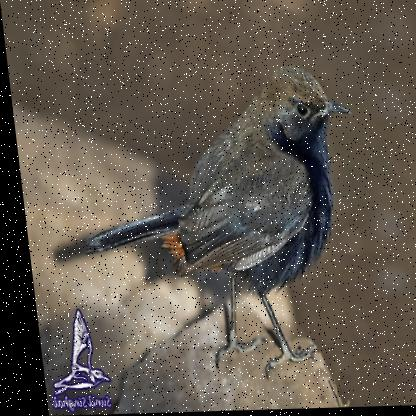Burung: (64, 65, 373, 383)
